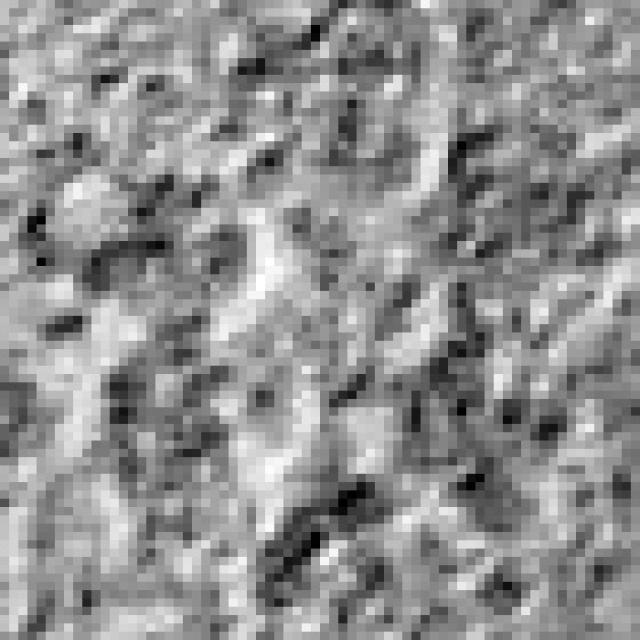inner: (232, 211, 434, 446)
lobe: (340, 321, 574, 531), (15, 129, 261, 313), (84, 302, 248, 576), (212, 6, 437, 204), (401, 109, 626, 299), (253, 468, 477, 628)
outer: (2, 0, 638, 632)
